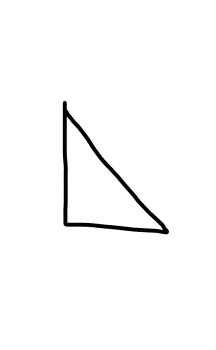Triangle: (59, 98, 171, 242)
